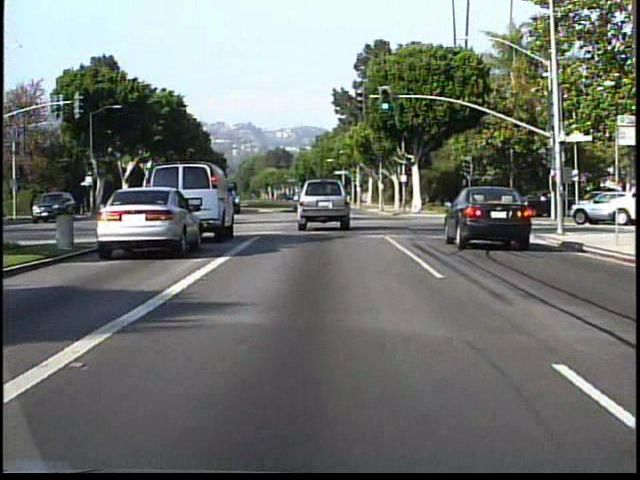car: (89, 184, 202, 254), (448, 186, 532, 255), (295, 177, 347, 232), (193, 184, 236, 244)
